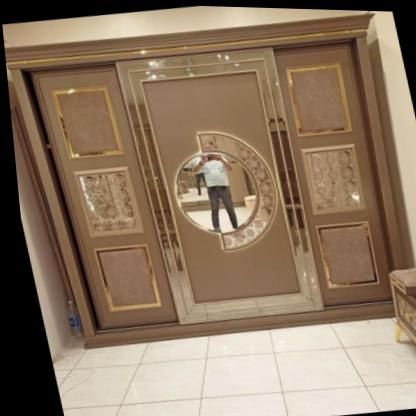Ceramic floor: (45, 314, 416, 416)
Closet: (4, 12, 410, 346)
